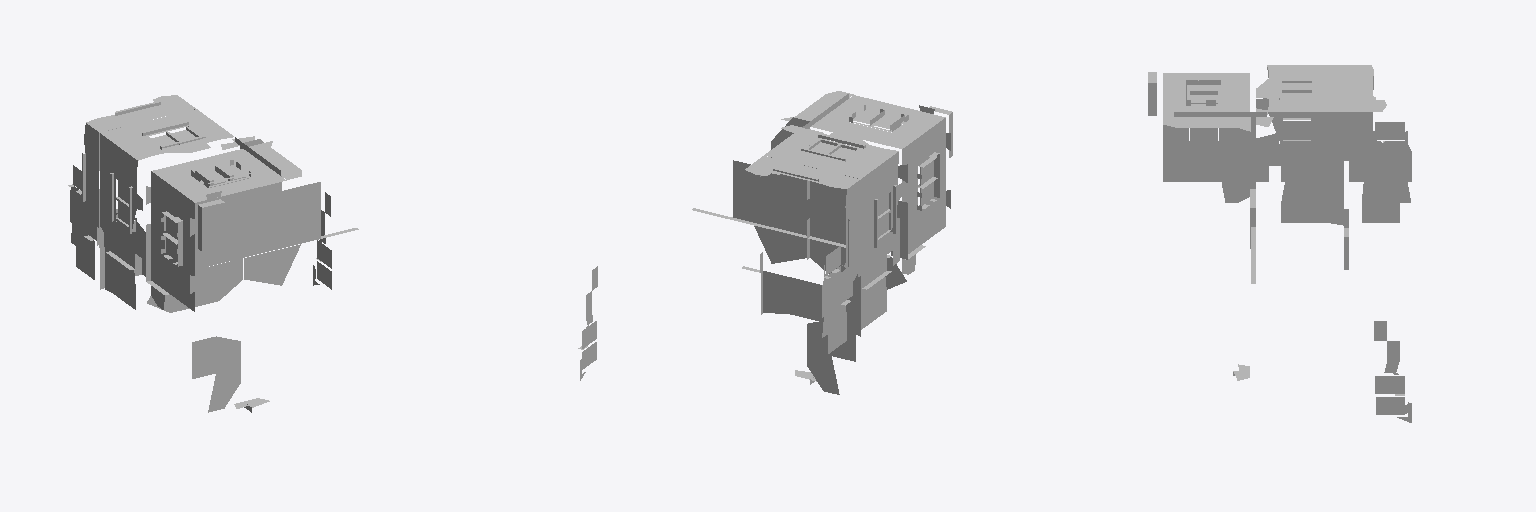
The model's file is Destroy9.obj.
The picture shows the model from 3 angles: view 1: azimuth 30°, elevation 25°; view 2: azimuth 150°, elevation 25°; view 3: azimuth 270°, elevation 25°; orthographic projection.
Parts seen in each view (by area): view 1: Destroy9; view 2: Destroy9; view 3: Destroy9.
Part boxes in pixels (left/top/right/bottom): Destroy9: left=68, top=95, right=358, bottom=412; Destroy9: left=578, top=91, right=952, bottom=394; Destroy9: left=1148, top=65, right=1411, bottom=422.
Bounding box in the file's own units: 10.13 × 10.11 × 9.03.